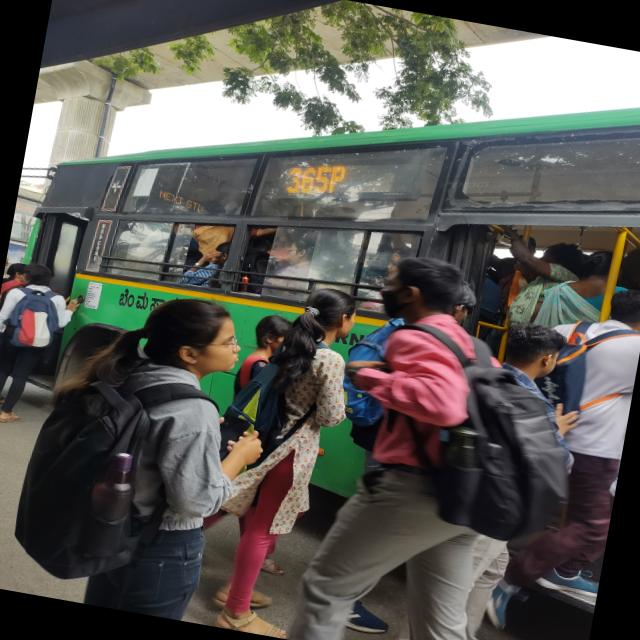bus: (0, 0, 640, 594)
display: (276, 133, 426, 220)
dnumber: (286, 156, 346, 202)
